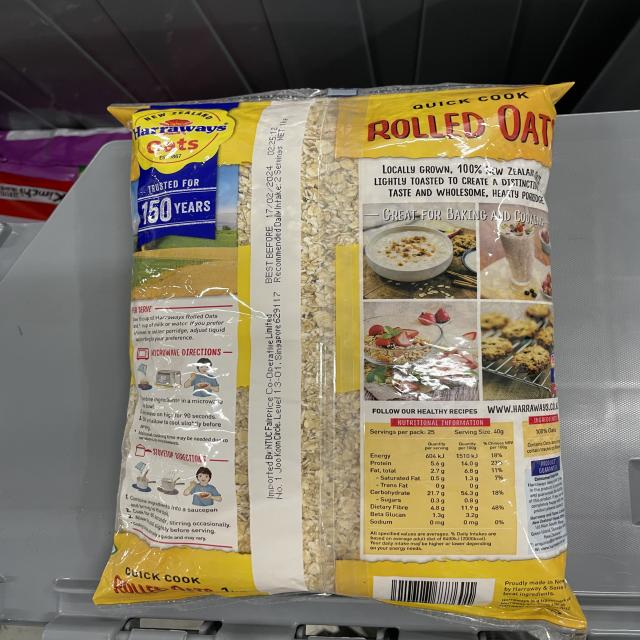object_name: (123, 97, 554, 616)
